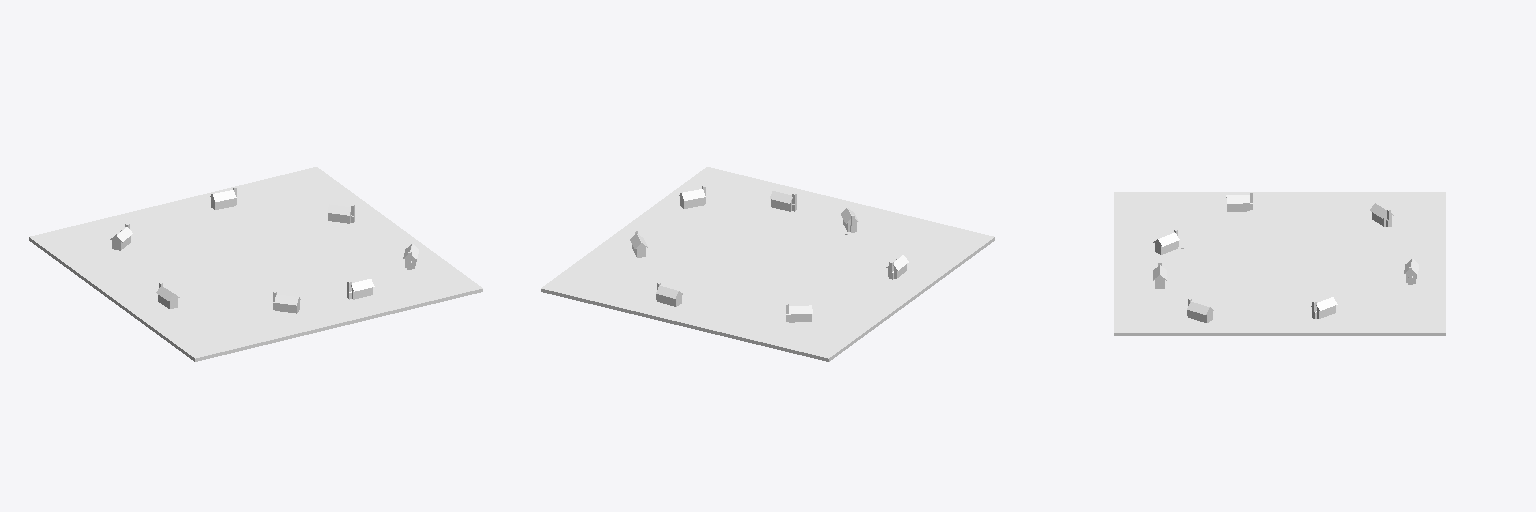
File: test_town_mapped.obj
The picture shows the model from 3 angles: view 1: azimuth 30°, elevation 25°; view 2: azimuth 150°, elevation 25°; view 3: azimuth 270°, elevation 25°; orthographic projection.
Parts seen in each view (by area): view 1: mesh08; view 2: mesh08; view 3: mesh08.
Part boxes in pixels (left/top/right/bottom): mesh08: left=29, top=167, right=482, bottom=361; mesh08: left=541, top=167, right=994, bottom=361; mesh08: left=1114, top=192, right=1445, bottom=335.
Bounding box in the file's own units: 4167 × 280 × 4167.